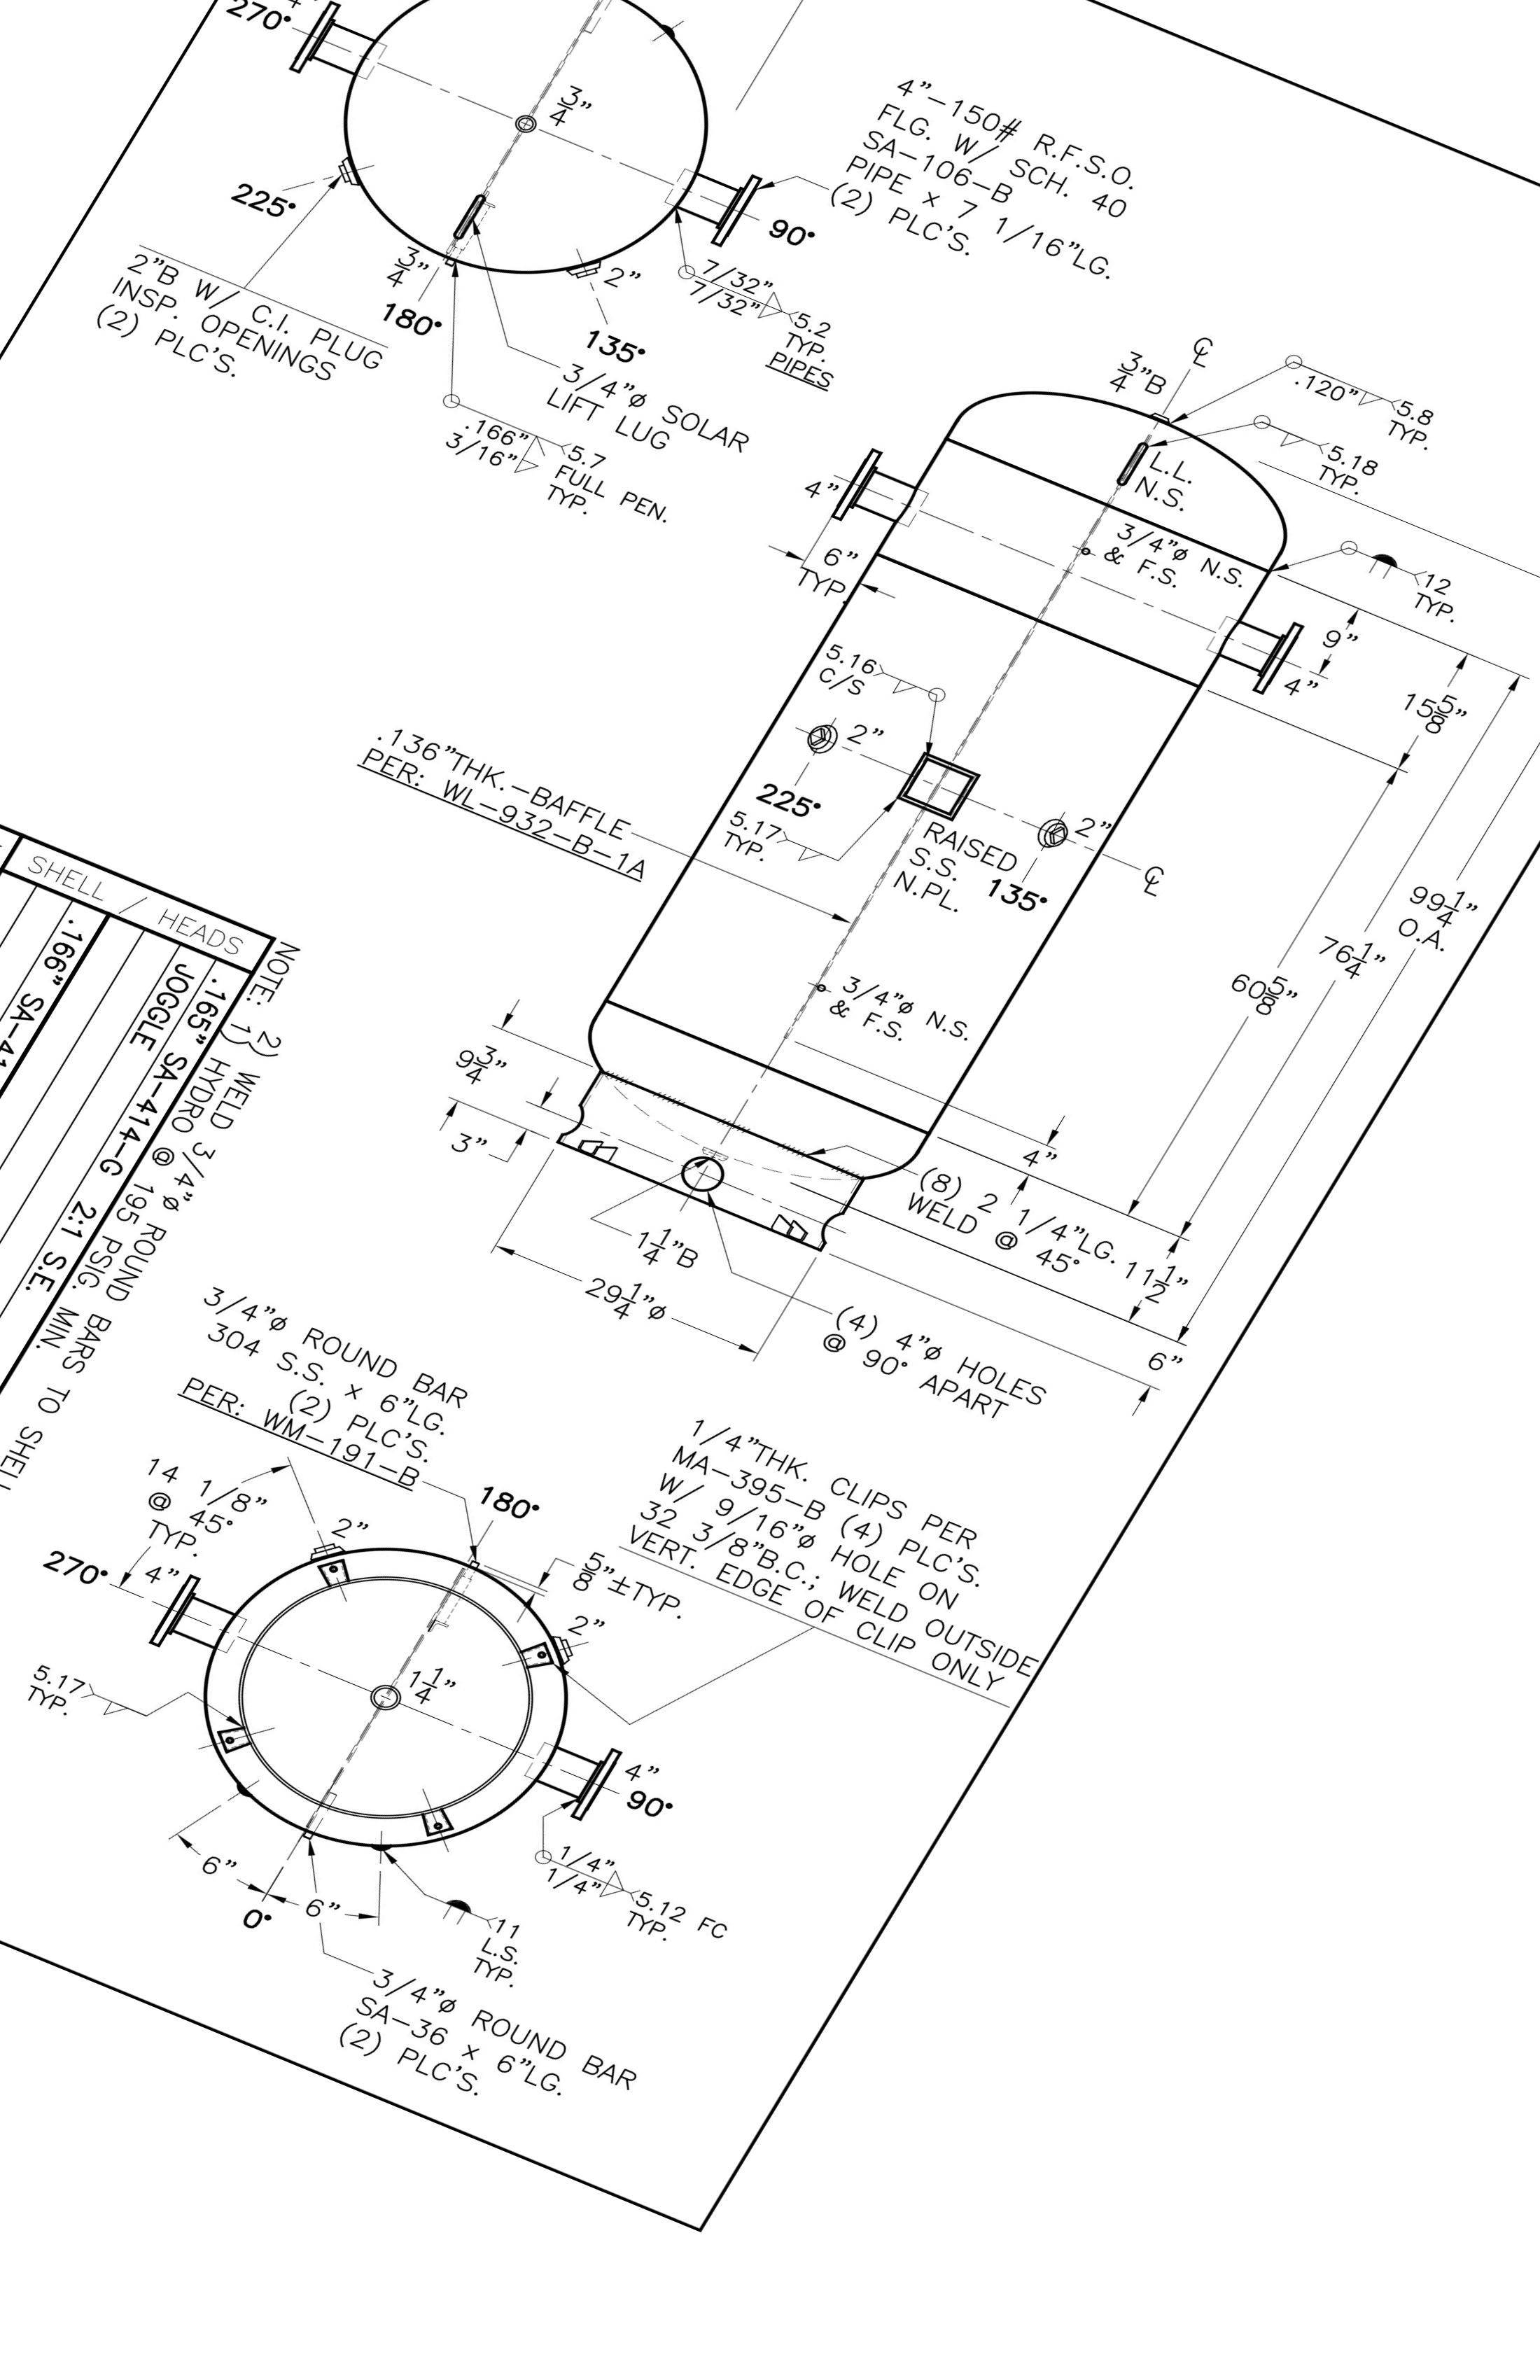Nozzle: (101, 1559, 265, 1683), (522, 1723, 669, 1860), (1191, 602, 1330, 732), (806, 441, 966, 545), (281, 0, 369, 95)
